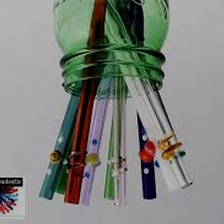drinking_straw: (105, 0, 129, 207)
glass: (50, 0, 174, 102)
